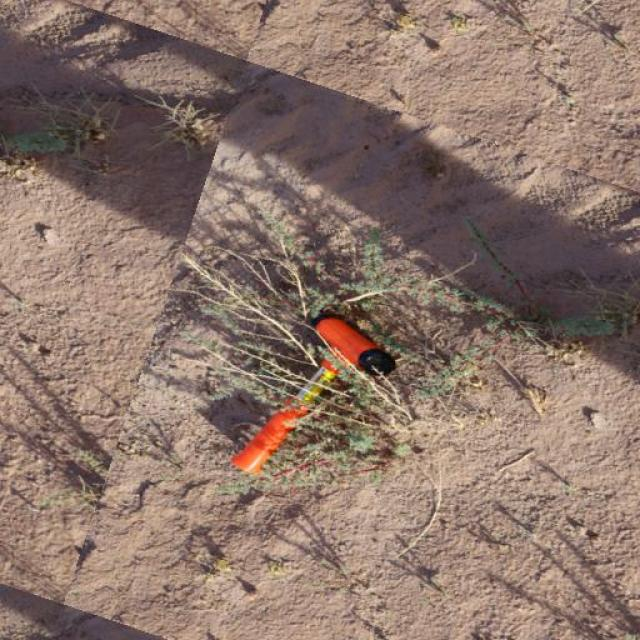mallet: (230, 306, 399, 475)
